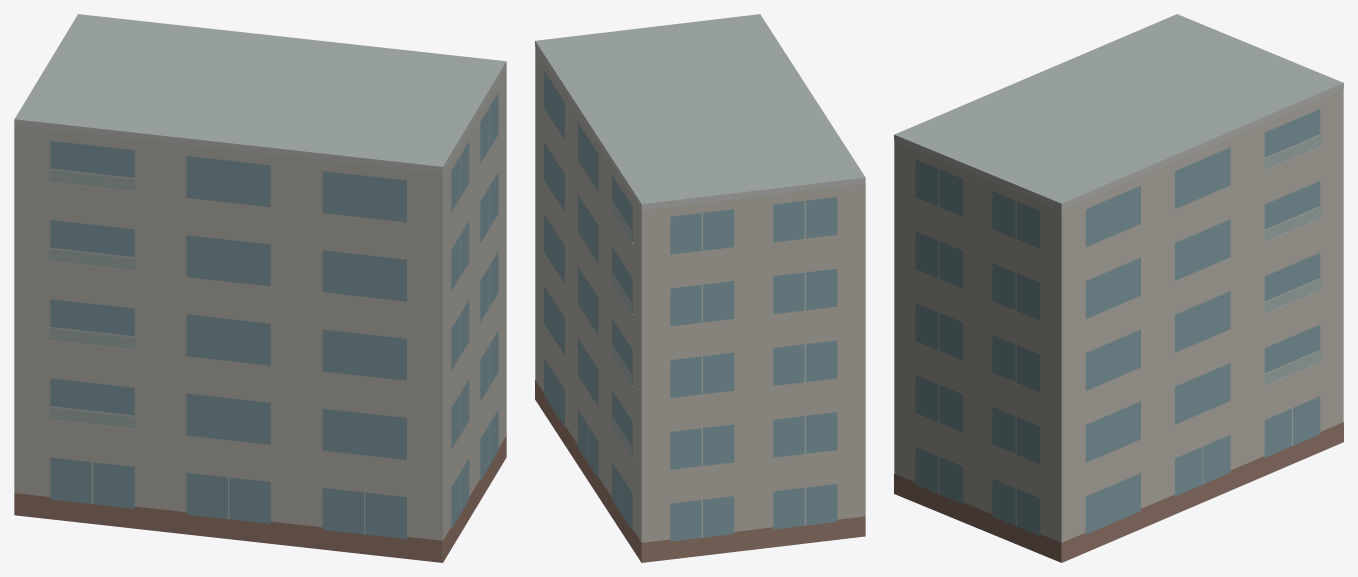
The model's file is survey-upis-32930109.glb.
3 renders of one model, left to right at view 1: azimuth 30°, elevation 25°; view 2: azimuth 150°, elevation 25°; view 3: azimuth 270°, elevation 25°, orthographic. The views are drawn at different scales.
Visible parts, largest first — view 1: survey-upis-32930109.tmp; view 2: survey-upis-32930109.tmp; view 3: survey-upis-32930109.tmp.
Boxes of the visible parts, box(x1,y1,x2,y2) form: survey-upis-32930109.tmp: box(14, 14, 506, 562); survey-upis-32930109.tmp: box(535, 14, 865, 562); survey-upis-32930109.tmp: box(894, 14, 1343, 562).
Bounding box in the file's own units: 16.65 × 14.7 × 16.68.
